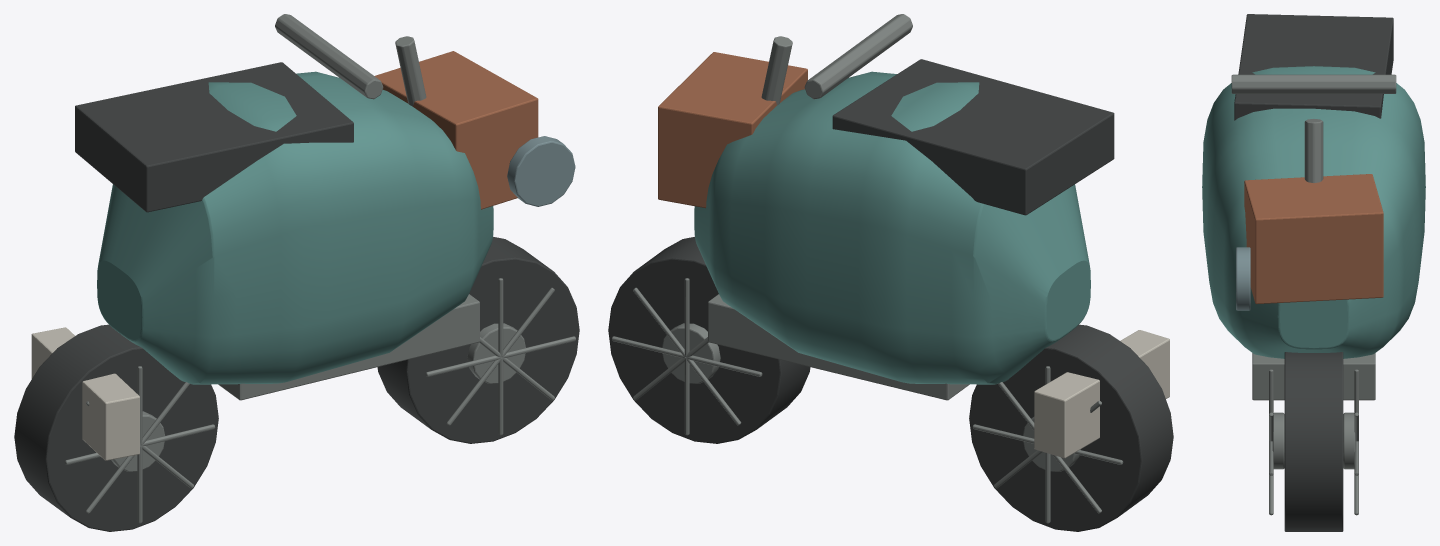
The model's file is Apoc_Motorcycle_02_Smashed_Scooter.fbx.
The picture shows the model from 3 angles, left to right: view 1: azimuth 30°, elevation 25°; view 2: azimuth 150°, elevation 25°; view 3: azimuth 270°, elevation 25°; orthographic projection. The views are drawn at different scales.
Parts seen in each view (by area): view 1: Apoc_Motorcycle_02_Smashed_Scooter; view 2: Apoc_Motorcycle_02_Smashed_Scooter; view 3: Apoc_Motorcycle_02_Smashed_Scooter.
Boxes of the visible parts, left/top/right/bottom form: Apoc_Motorcycle_02_Smashed_Scooter: left=14, top=14, right=579, bottom=531; Apoc_Motorcycle_02_Smashed_Scooter: left=608, top=14, right=1173, bottom=531; Apoc_Motorcycle_02_Smashed_Scooter: left=1202, top=14, right=1425, bottom=531.
Bounding box in the file's own units: 1.91 × 1.43 × 0.76.
